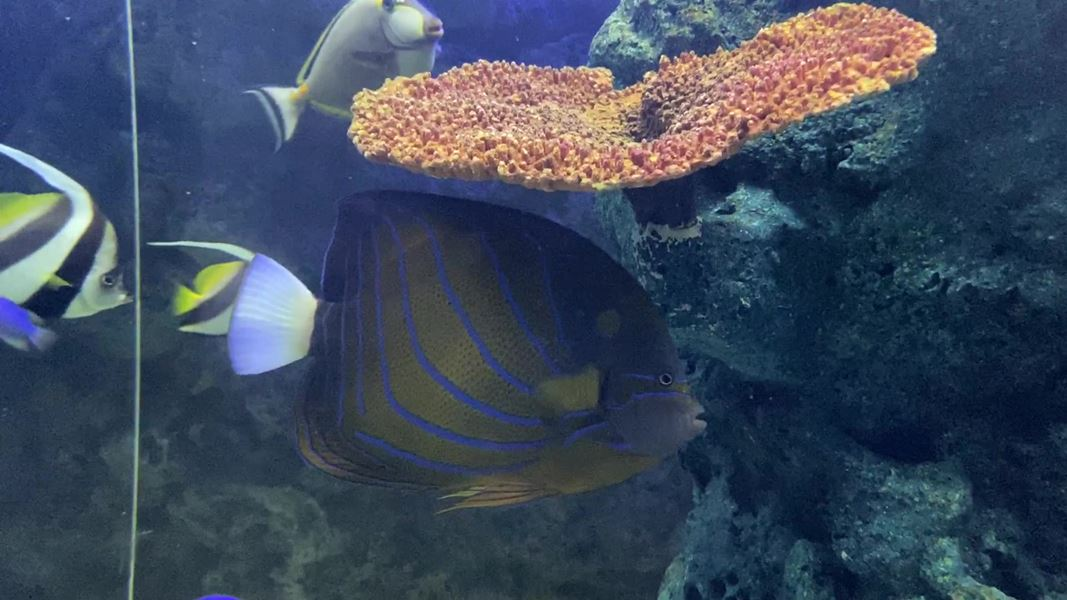Blue ring angelfish: (200, 179, 712, 545)
